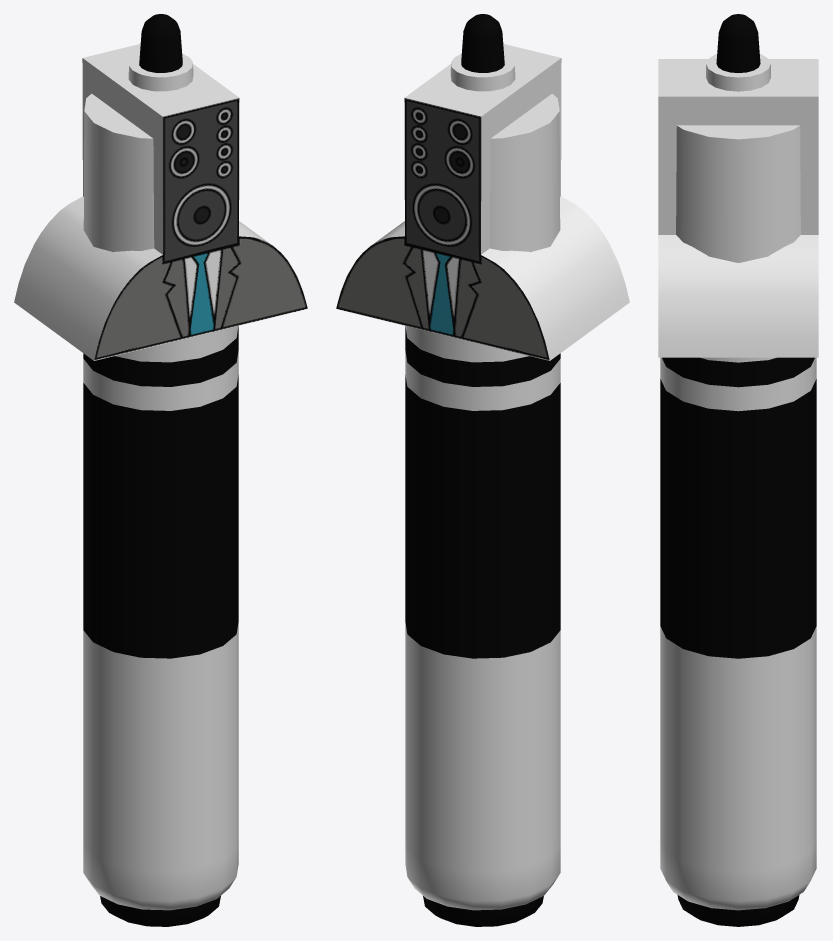
The model's file is Pen_Skibidi_03.fbx.
The picture shows the model from 3 angles, left to right: view 1: azimuth 30°, elevation 25°; view 2: azimuth 150°, elevation 25°; view 3: azimuth 270°, elevation 25°; orthographic projection.
Visible parts, largest first — view 1: Pen_Skibidi_03; view 2: Pen_Skibidi_03; view 3: Pen_Skibidi_03.
Boxes of the visible parts, left/top/right/bottom form: Pen_Skibidi_03: left=14, top=14, right=307, bottom=926; Pen_Skibidi_03: left=336, top=14, right=629, bottom=926; Pen_Skibidi_03: left=658, top=14, right=818, bottom=926.
Bounding box in the file's own units: 27.76 × 110 × 18.
